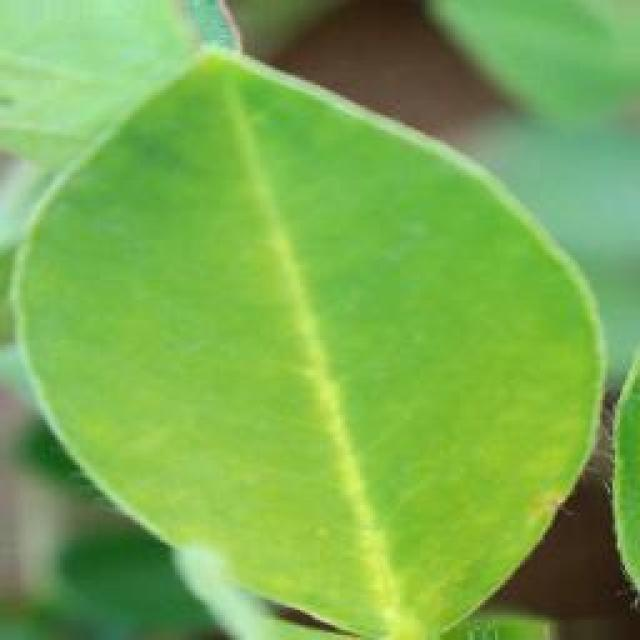Yellow_and_black_sigatoka: (8, 43, 605, 617)
